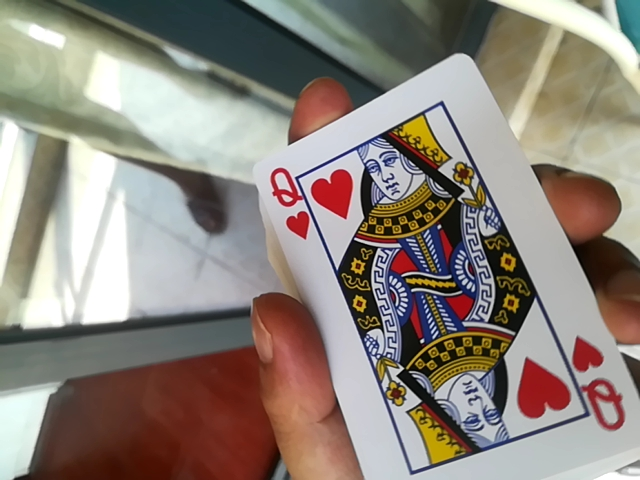hx q: (237, 46, 632, 478)
